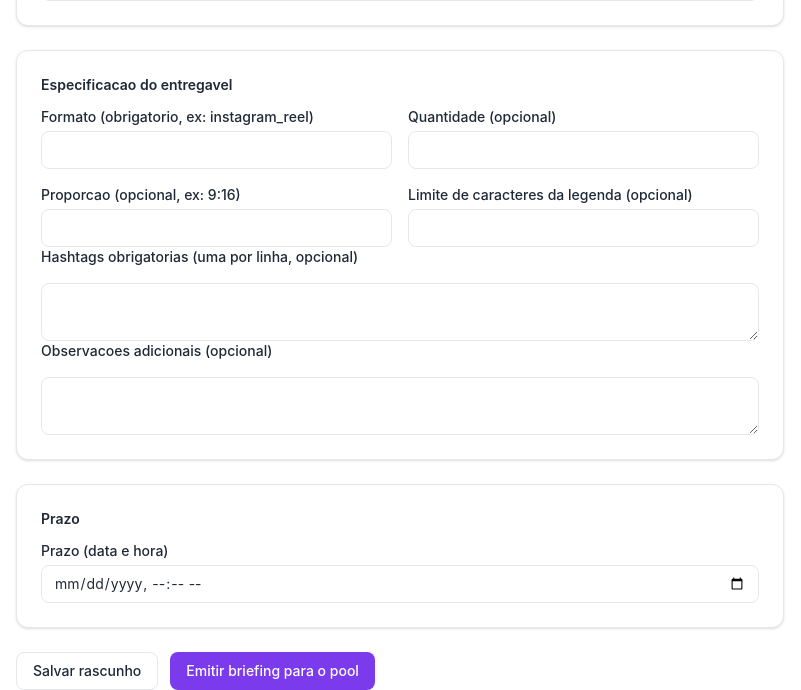
it: BriefingComposerPage - US-18a › refuses to issue an incomplete briefing and states exactly which fields are missing
(page scrolled)
Click the button "Emitir briefing para o pool" at (273, 671), box [170,652,375,689]
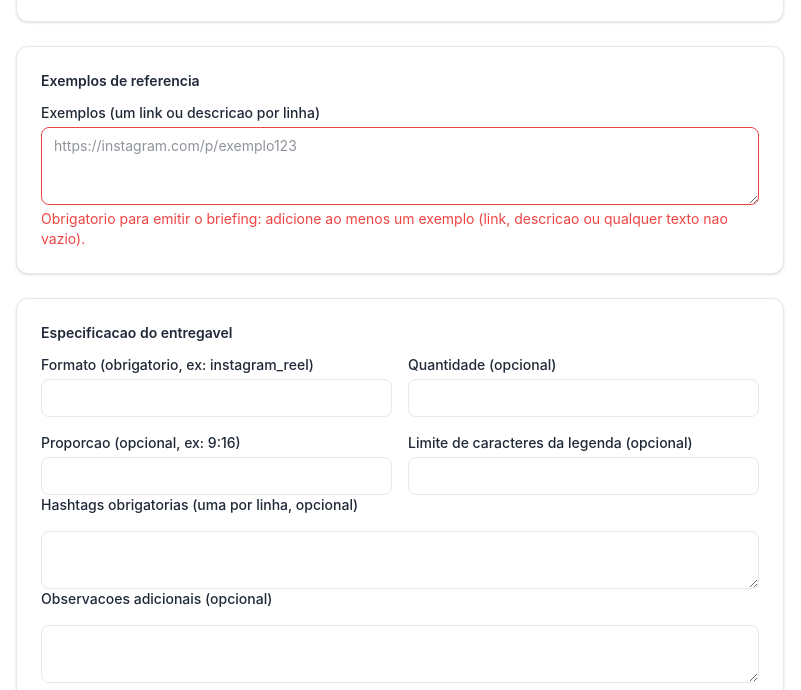
Expected: the text "Obrigatorio para emitir o briefing: adicione ao menos um exemplo (link, descricao ou qualquer texto nao vazio)." is shown, [41,210,728,247]
